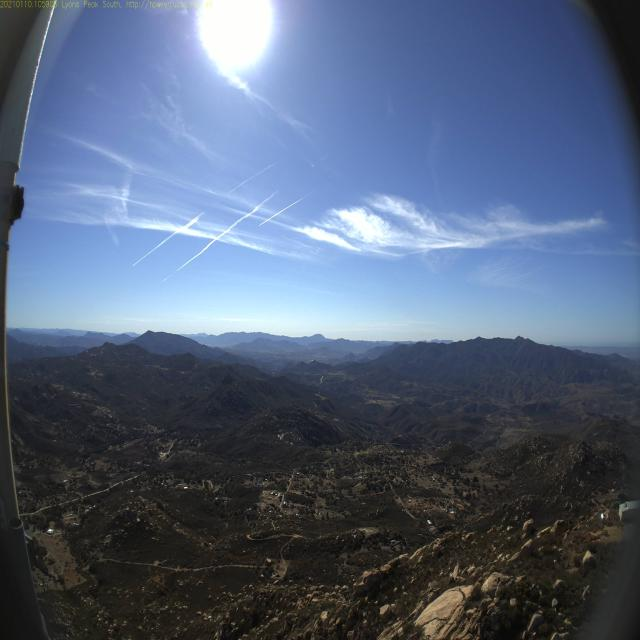smoke: (330, 361, 334, 369)
